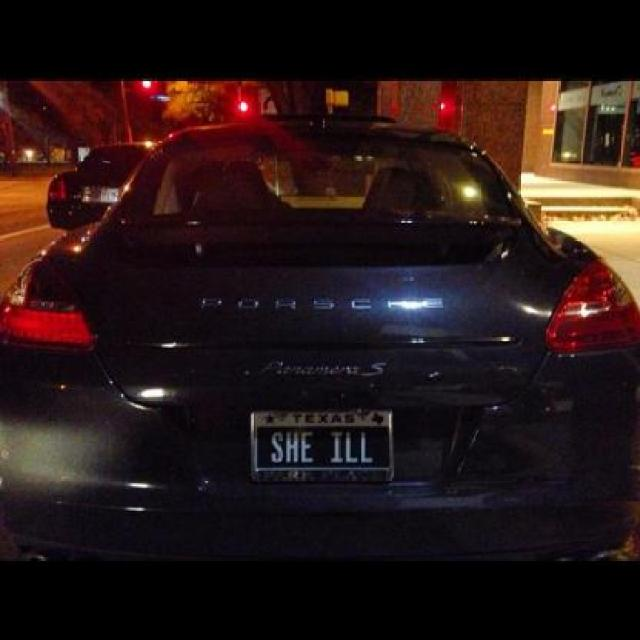License-Plates: (240, 400, 410, 484)
